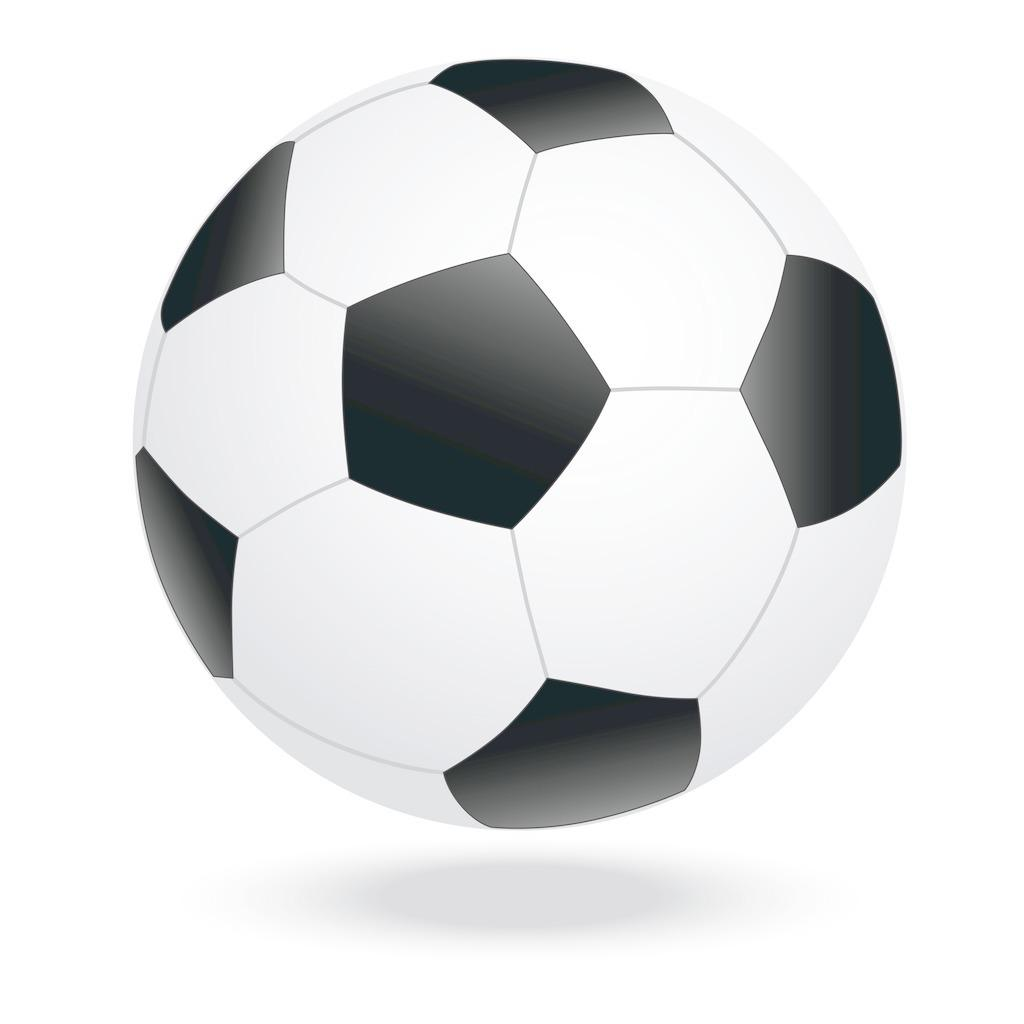football: (145, 69, 909, 829)
